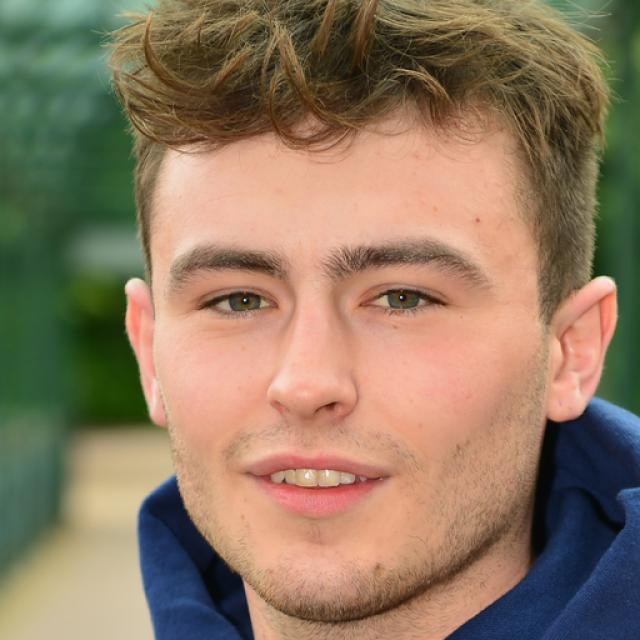Acne: (372, 552, 386, 581), (469, 210, 490, 229)
